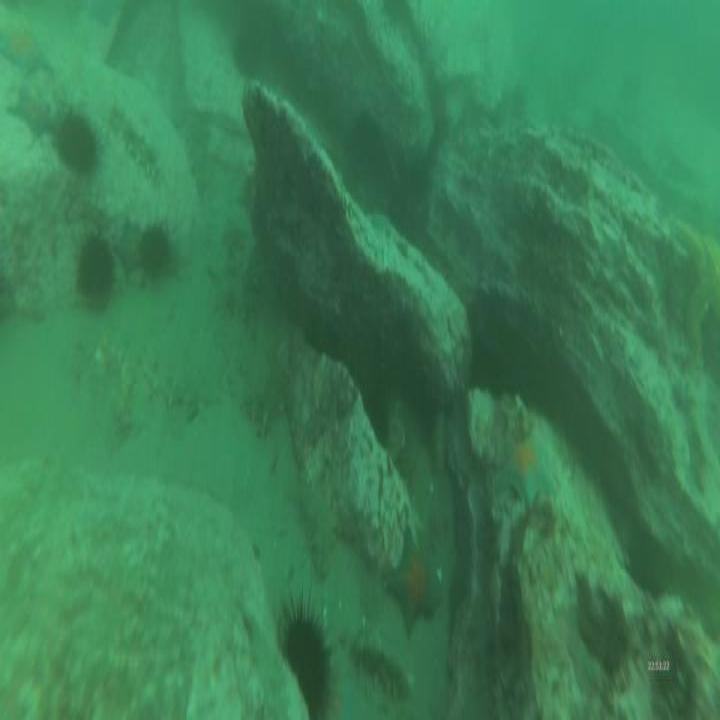echinus: (271, 594, 336, 720), (50, 106, 104, 178), (344, 110, 392, 188), (73, 228, 118, 310), (136, 215, 173, 288), (230, 18, 268, 82)
holothurian: (350, 626, 421, 711), (131, 334, 196, 416), (109, 96, 162, 187), (300, 477, 338, 582)
starfish: (386, 517, 443, 642), (497, 420, 562, 516), (5, 78, 59, 150), (0, 22, 56, 78)
